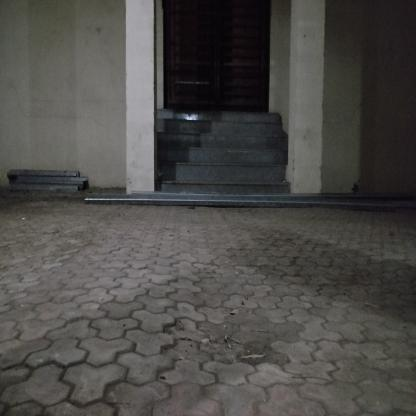stairs: (160, 114, 283, 194)
